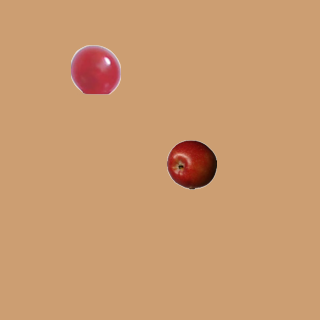Apple Braeburn: (166, 139, 216, 189)
Redcurrant: (70, 44, 120, 94)
